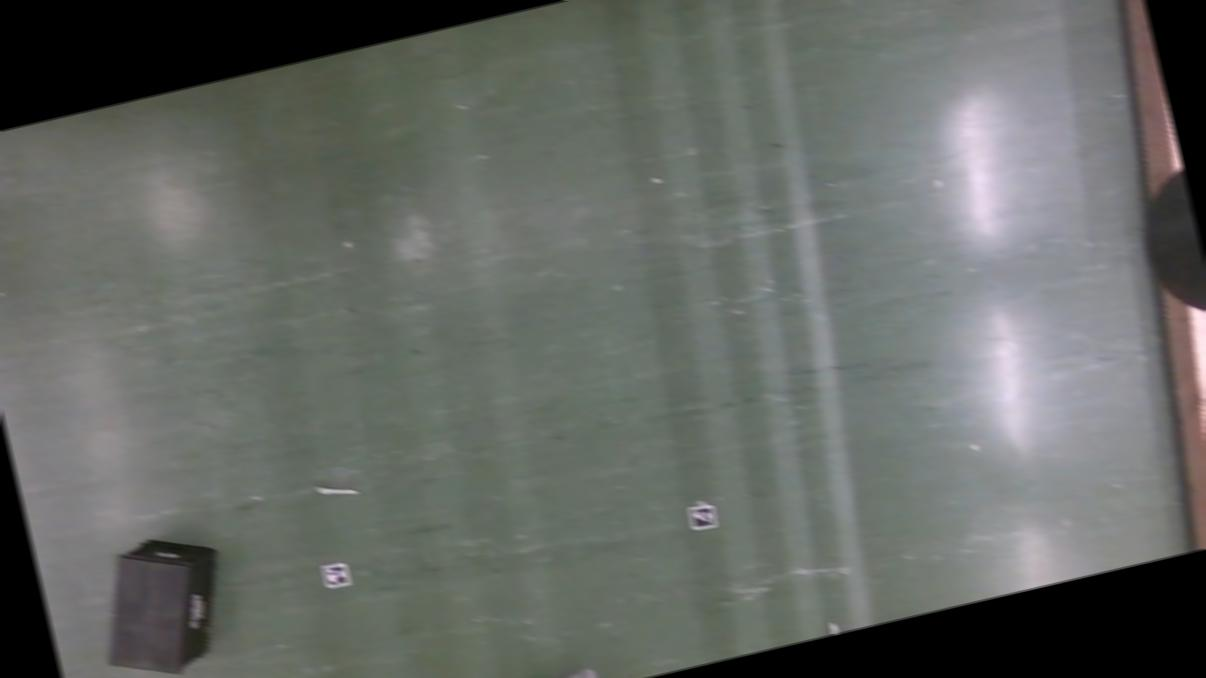probes: (316, 478, 356, 501)
rako: (82, 522, 240, 678), (511, 663, 609, 678)
